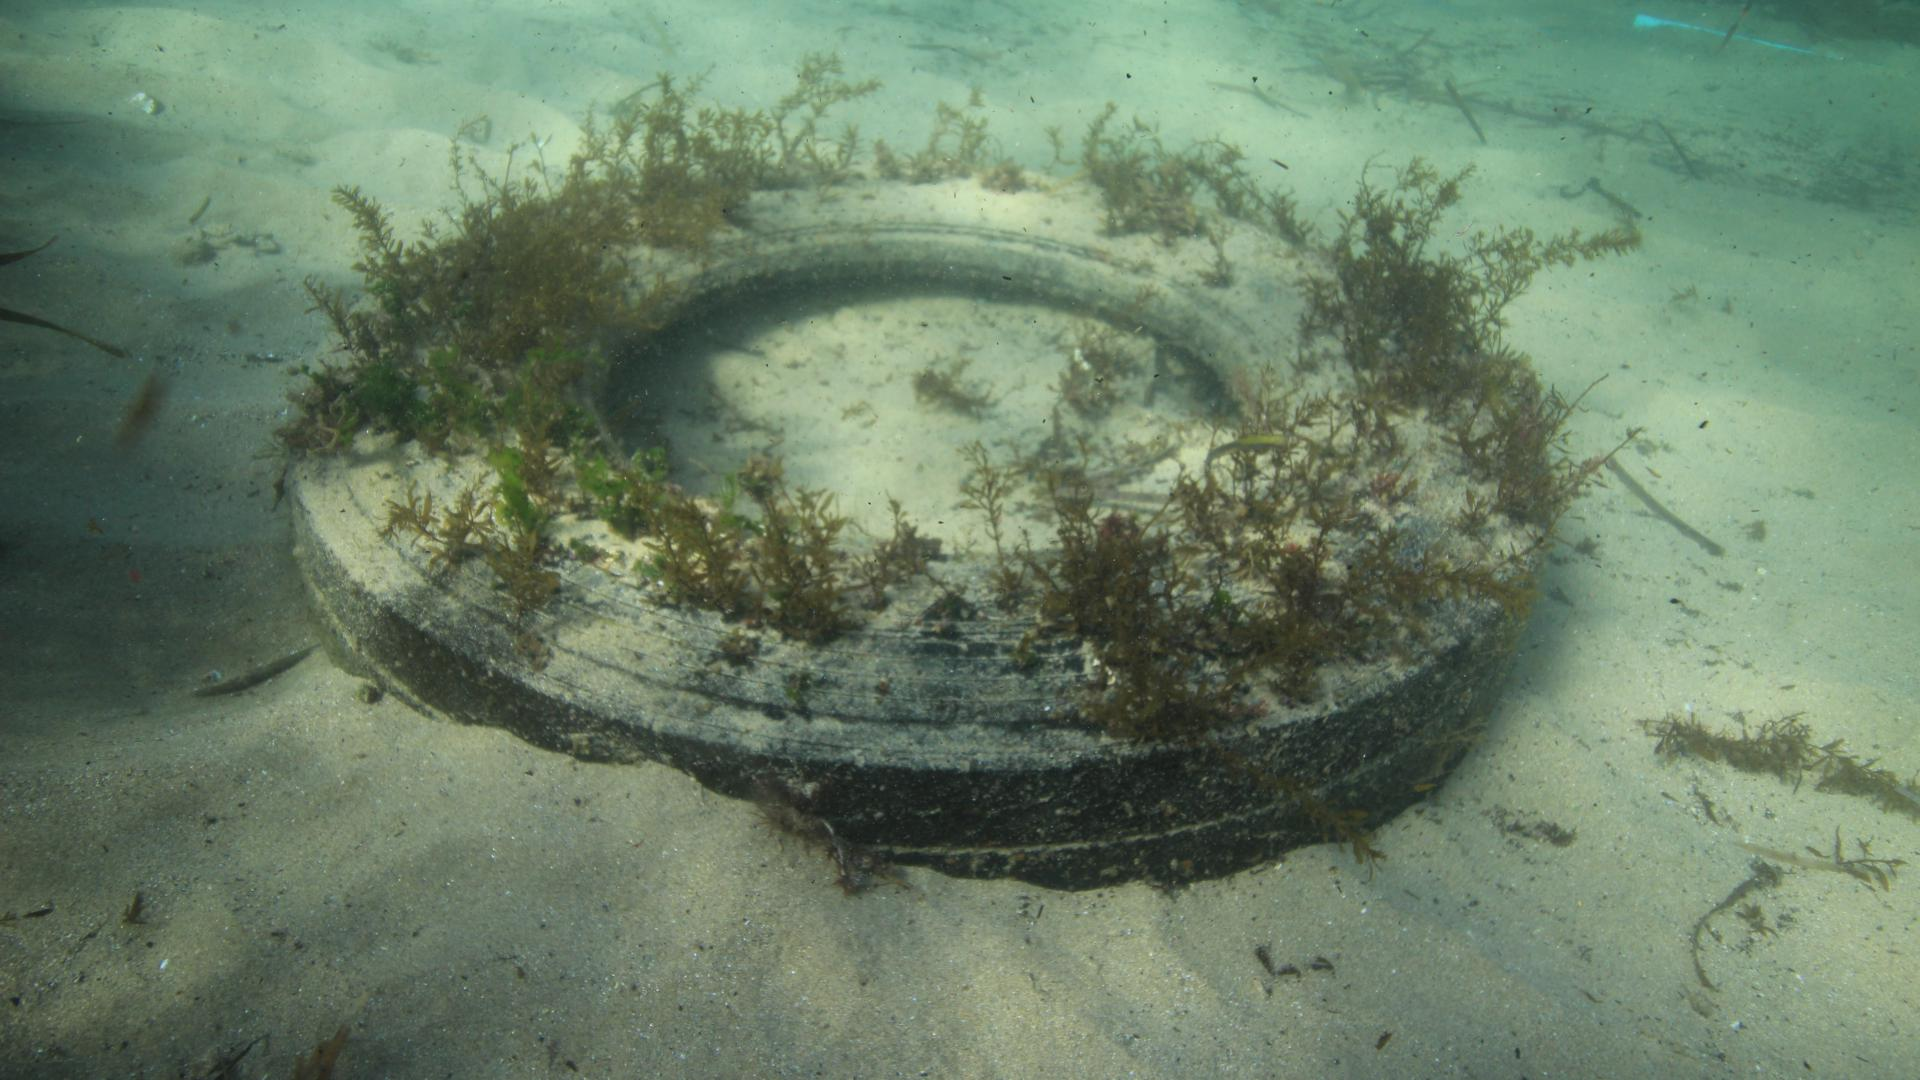tire: (282, 154, 1548, 891)
